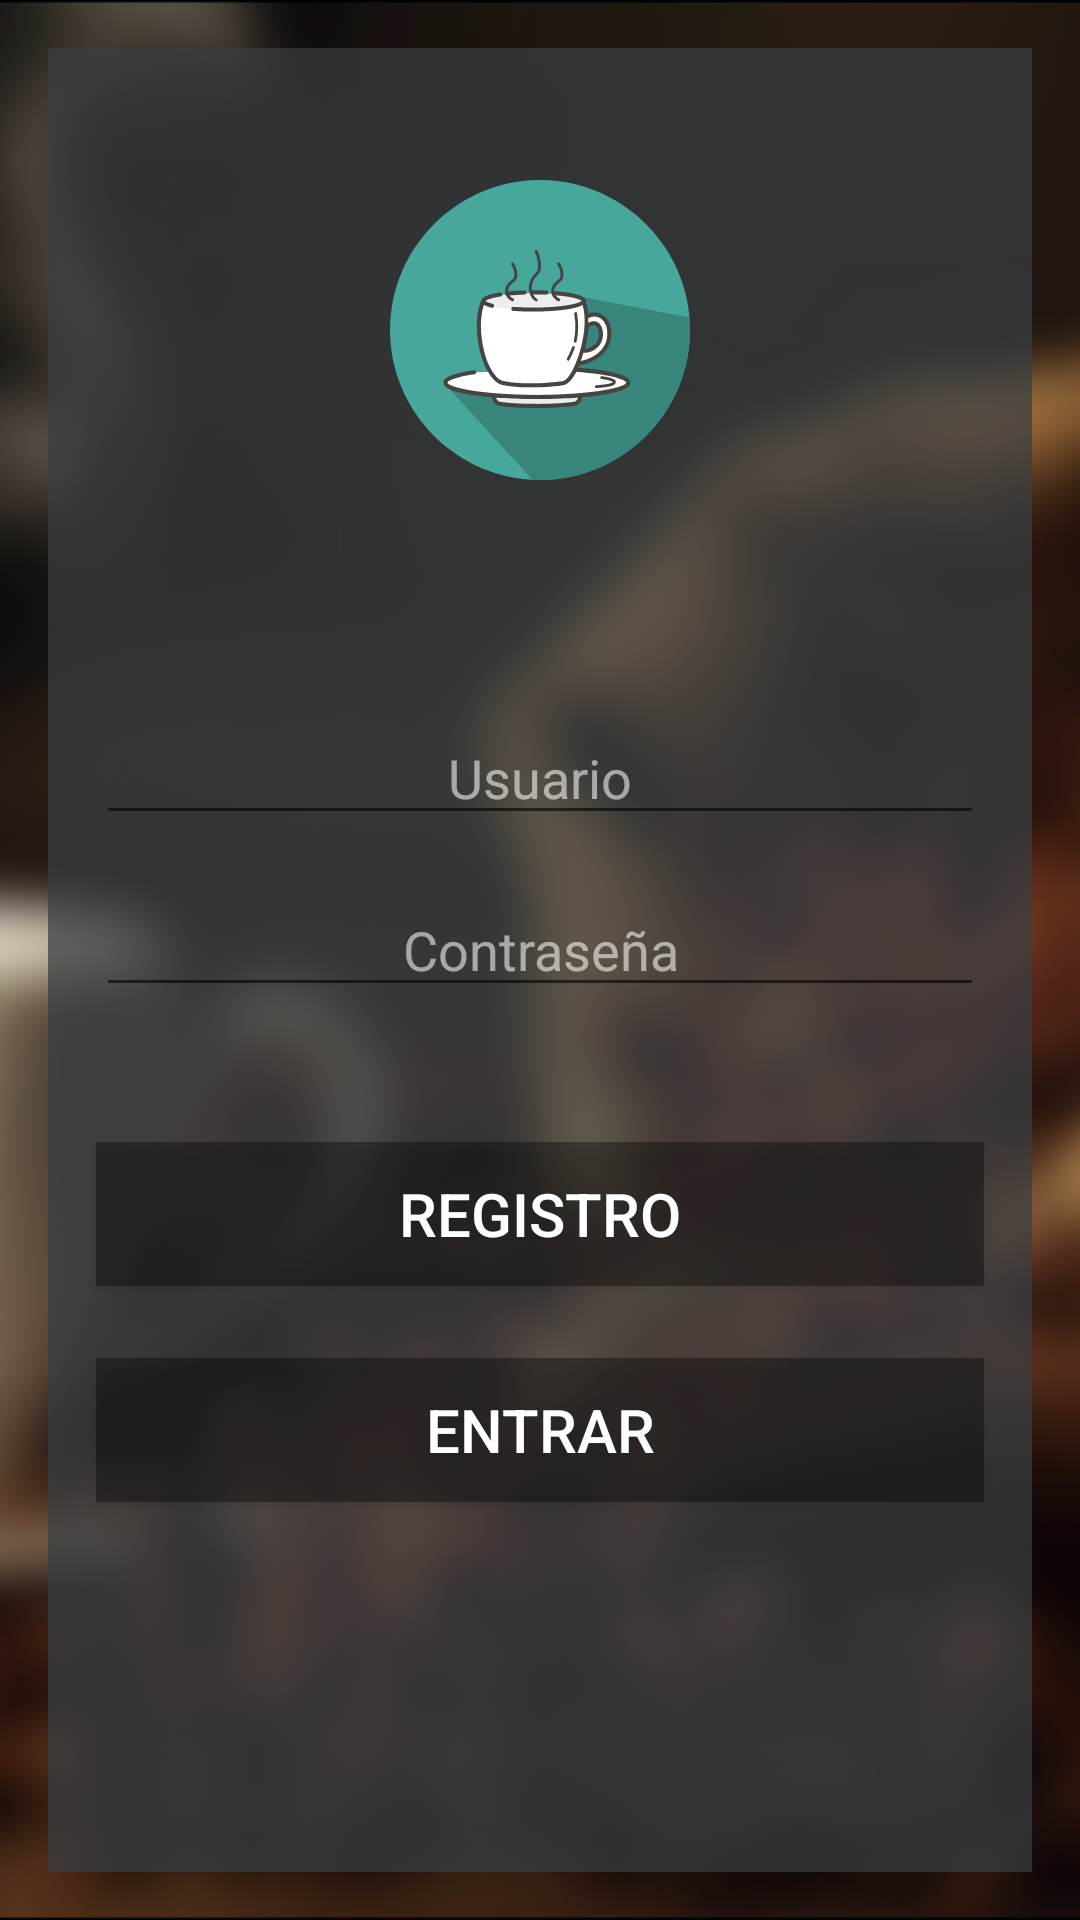

Named icons in this screenshot (1080 x 1920) and their bounding boxes, (x1, y1, x2, y2):
hot drink: (390, 180, 690, 480)
